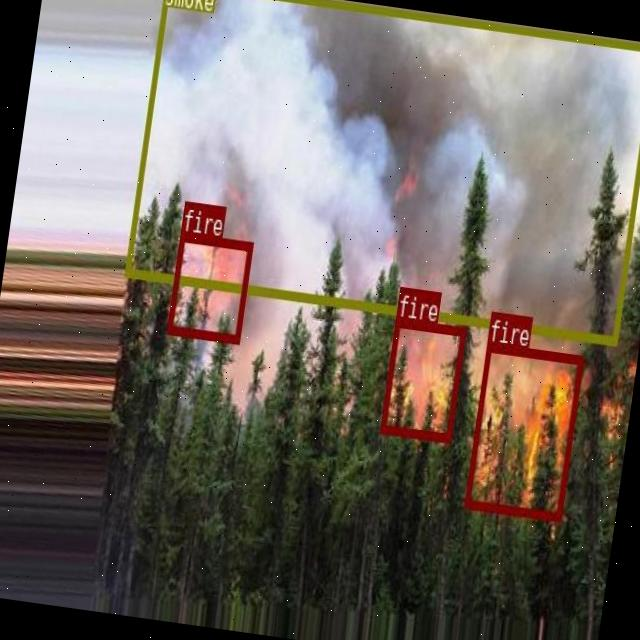fire: (464, 342, 582, 520), (379, 318, 465, 442), (166, 232, 252, 344)
smoke: (123, 0, 640, 342)
